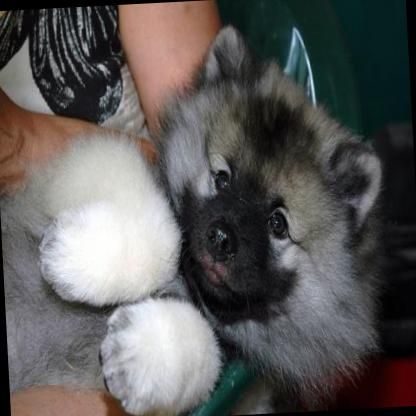keeshond: (0, 16, 392, 416)
